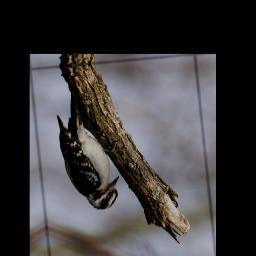Woodpecker: (49, 88, 125, 221)
